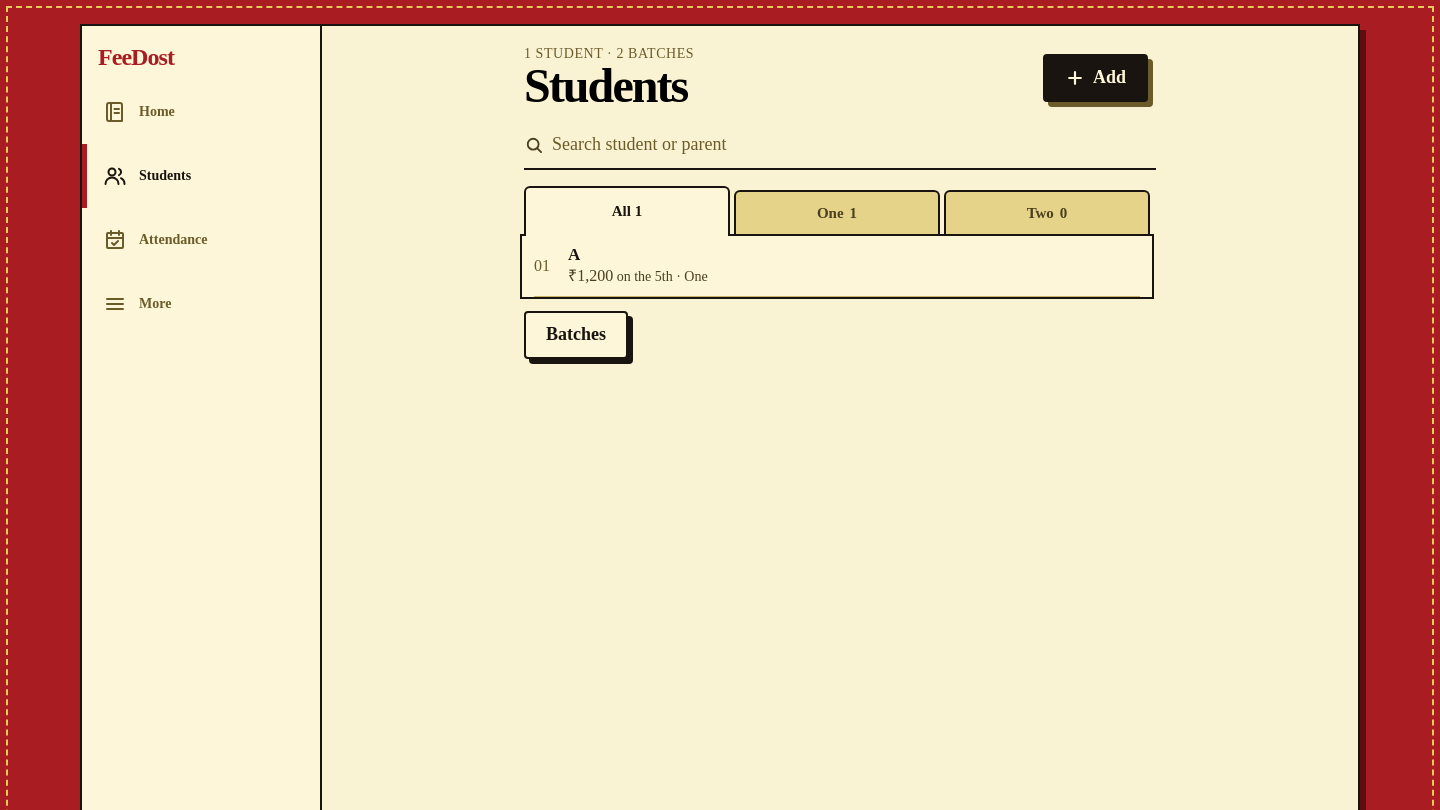
Scenario: the batch filter (8, 9) › says so when a batch has no students
This screenshot has width=1440, height=810.
Click the tab "Two 0" at (1047, 212), box [944,190,1150,234]
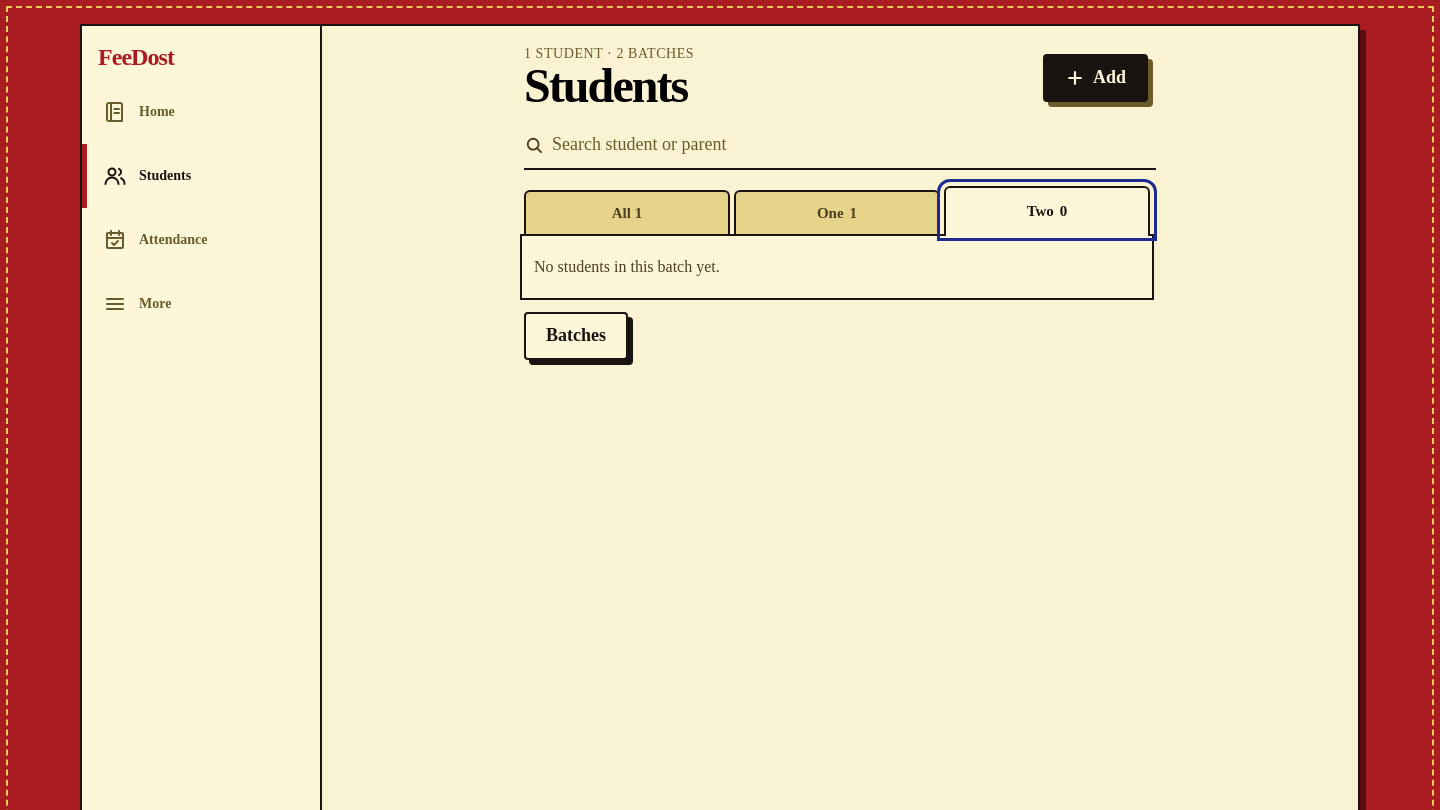
Expected: the text "No students in this batch yet." is shown, [534,256,720,278]
